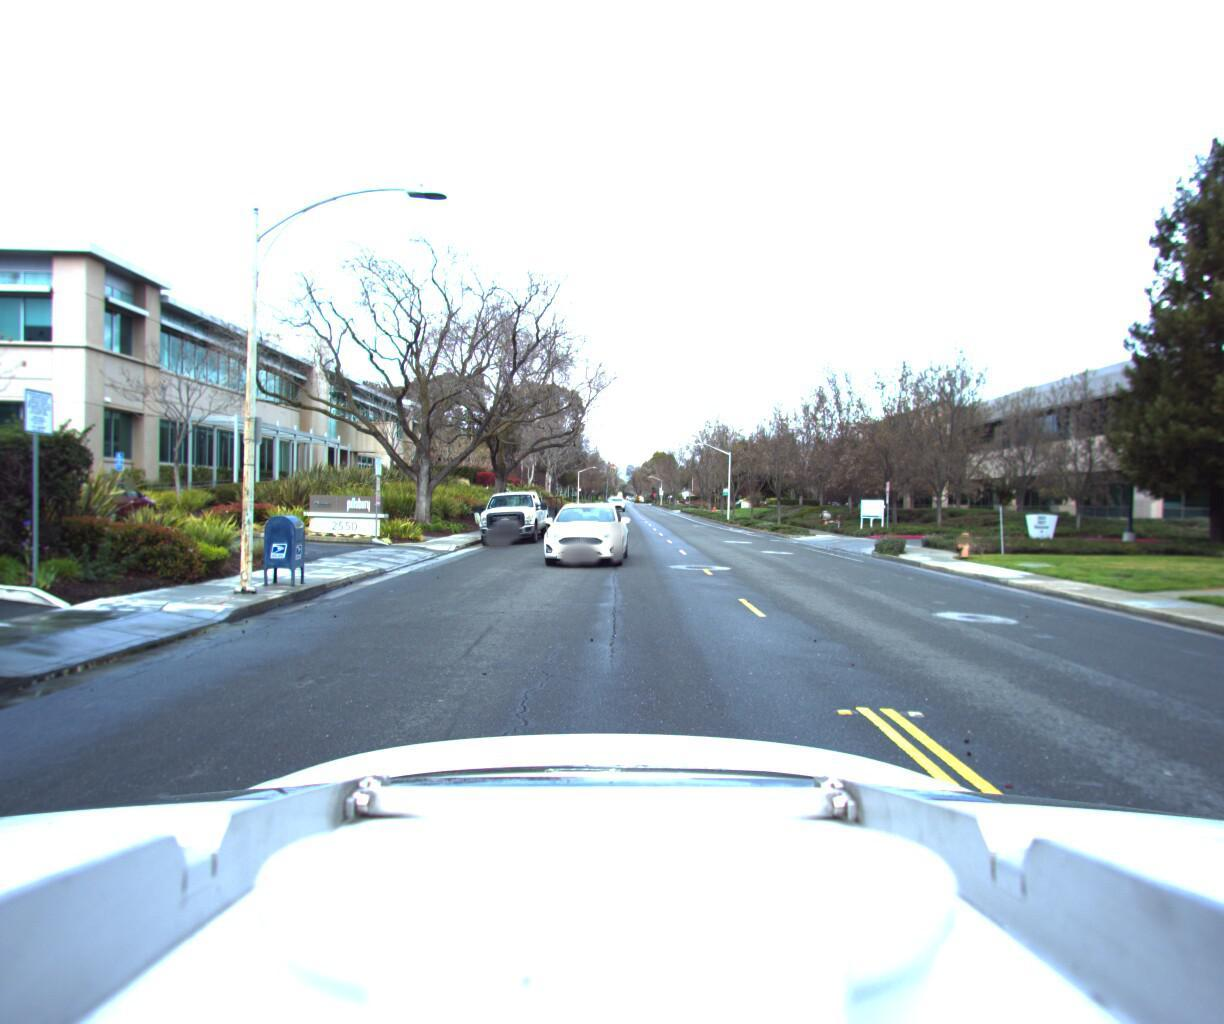car: (535, 496, 632, 567), (464, 484, 566, 541)
